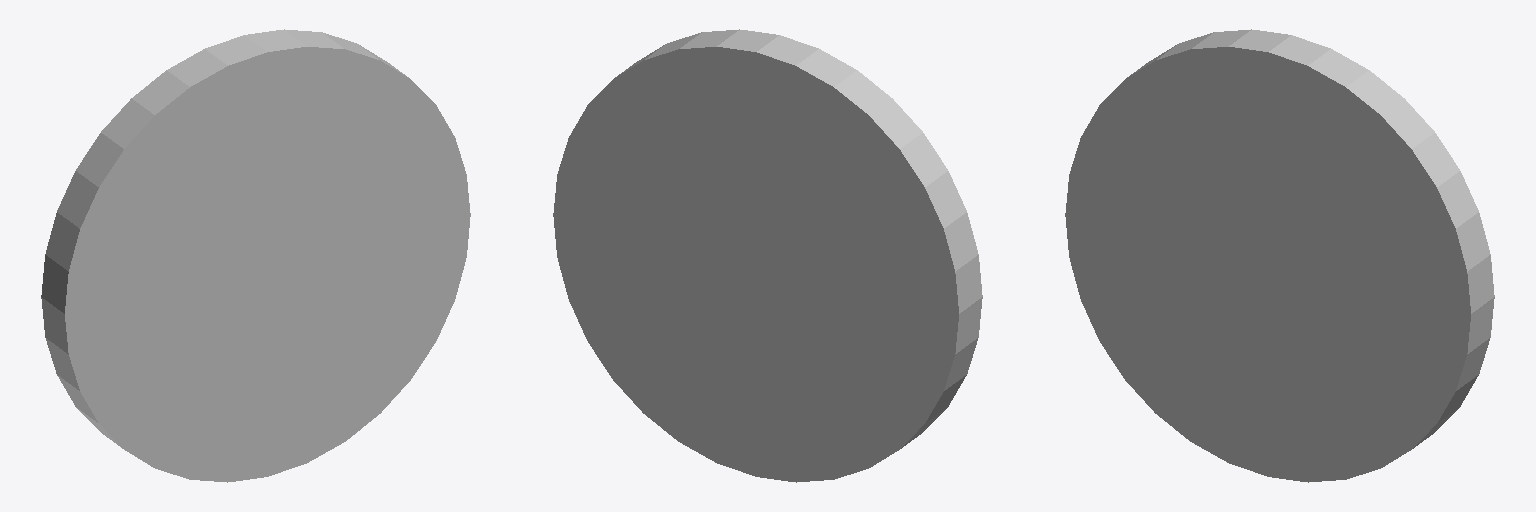
File: hand.obj
3 renders of one model, left to right at view 1: azimuth 30°, elevation 25°; view 2: azimuth 150°, elevation 25°; view 3: azimuth 330°, elevation 25°, orthographic.
Parts seen in each view (by area): view 1: Cylinder; view 2: Cylinder; view 3: Cylinder.
Boxes of the visible parts, x1=… form: Cylinder: x1=41, y1=29, x2=470, y2=482; Cylinder: x1=553, y1=29, x2=982, y2=482; Cylinder: x1=1065, y1=29, x2=1494, y2=482.
Size of the model in its own units: 0.125 by 0.125 by 0.0125.